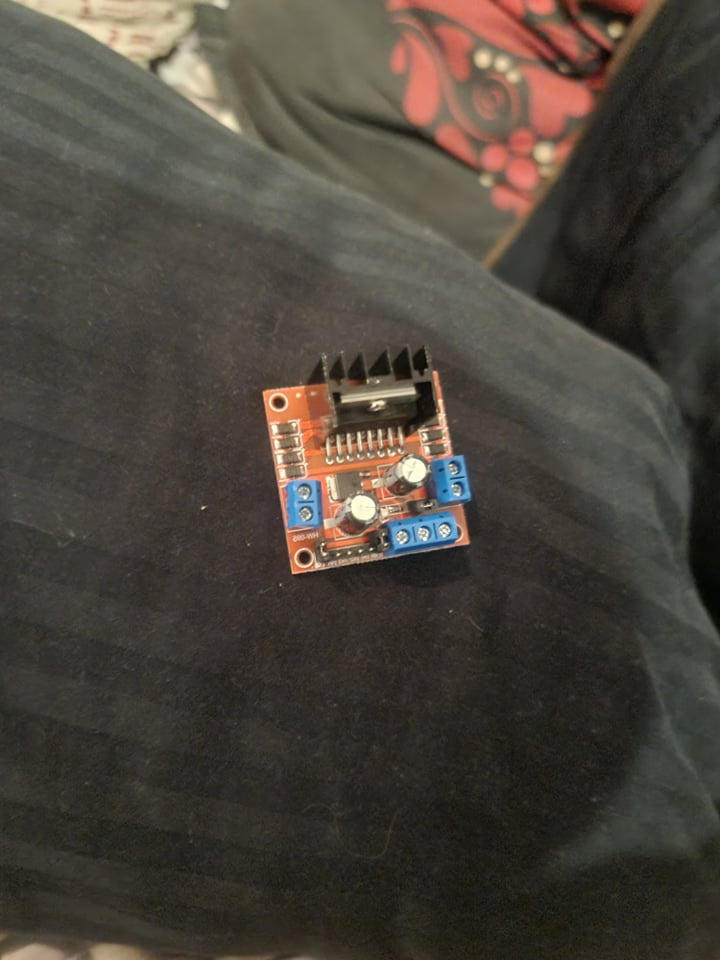MOTOR: (261, 341, 474, 580)
